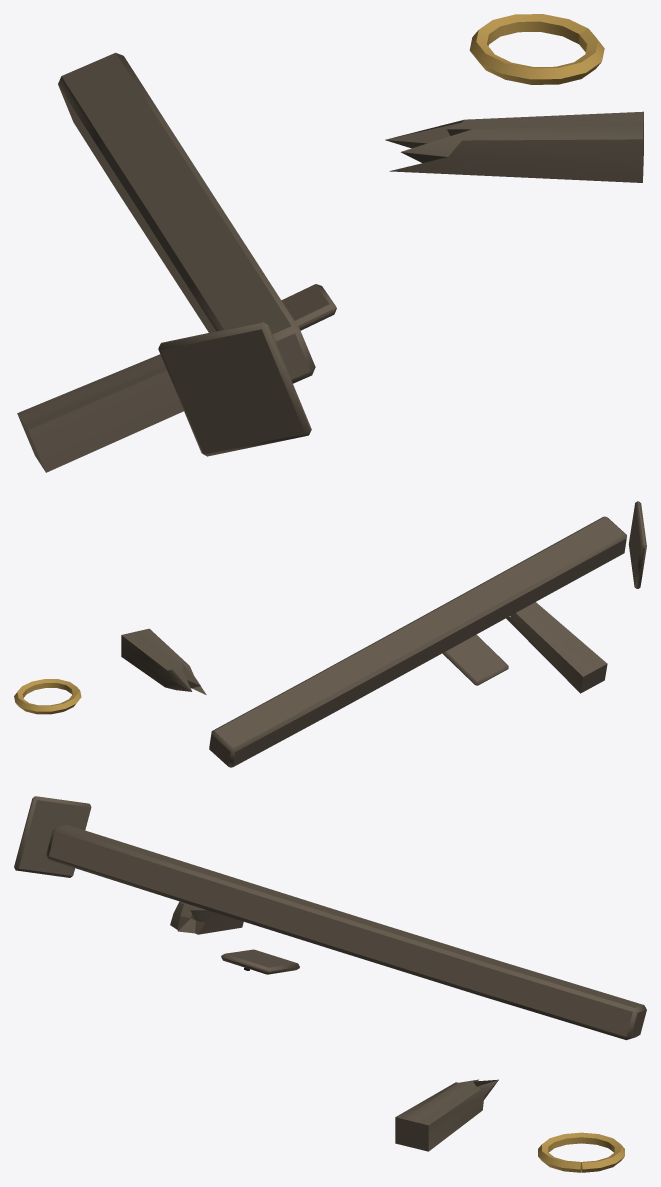
Rendered from holzkreuz_kaputt.glb.
3 renders of one model, top to bottom at view 1: azimuth 30°, elevation 25°; view 2: azimuth 150°, elevation 25°; view 3: azimuth 270°, elevation 25°, orthographic. The views are drawn at different scales.
Visible parts, largest first — view 1: holzkreuz_kaputt; view 2: holzkreuz_kaputt; view 3: holzkreuz_kaputt.
Part boxes in pixels (x1,y1,x2,y2): holzkreuz_kaputt: (17,14,643,472); holzkreuz_kaputt: (14,501,646,767); holzkreuz_kaputt: (14,796,646,1172).
Size of the model in its own units: 1.25 by 0.3361 by 1.3.
